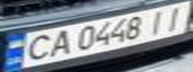0: (75, 24, 96, 52)
4: (109, 16, 133, 44), (93, 19, 115, 47)
8: (124, 14, 151, 40)
A: (45, 27, 75, 57)
C: (18, 32, 57, 63)
I: (157, 2, 193, 32), (142, 7, 172, 35)
